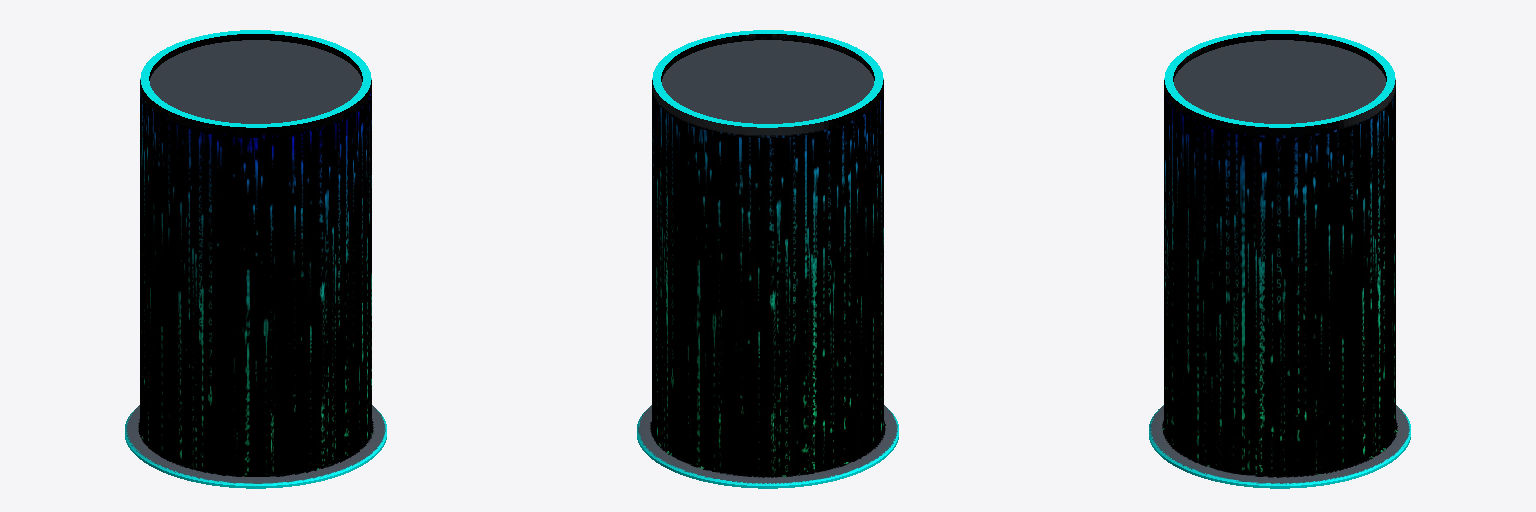
The picture shows the model from 3 angles: view 1: azimuth 30°, elevation 25°; view 2: azimuth 150°, elevation 25°; view 3: azimuth 270°, elevation 25°; orthographic projection.
Visible parts, largest first — view 1: Cylinder.001; view 2: Cylinder.001; view 3: Cylinder.001.
Part boxes in pixels (left/top/right/bottom): Cylinder.001: left=125, top=30, right=386, bottom=488; Cylinder.001: left=637, top=30, right=898, bottom=488; Cylinder.001: left=1149, top=30, right=1410, bottom=488.
Bounding box in the file's own units: 40.36 × 60 × 40.36.
3 materials, 1 textured.